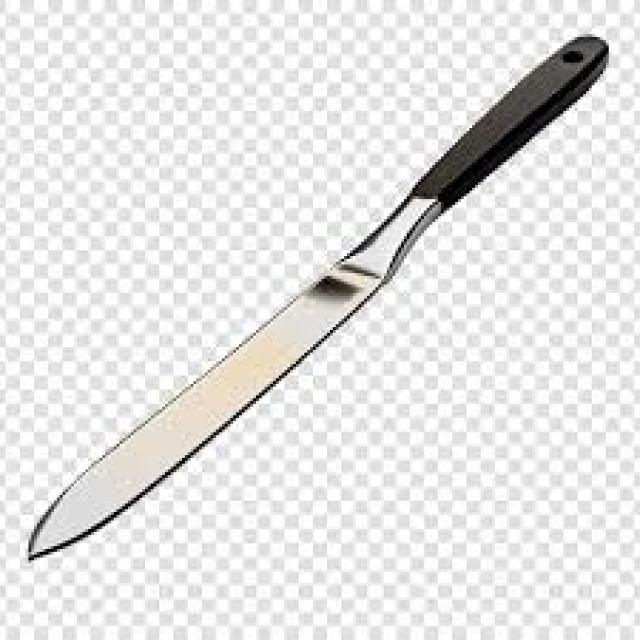Knife: (26, 32, 608, 560)
